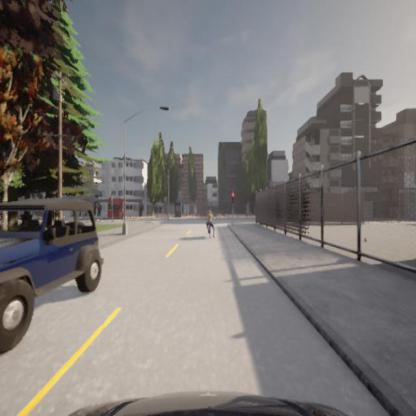bike: (205, 209, 215, 236)
traffic_light_red: (232, 192, 235, 200)
vehicle: (0, 187, 104, 356)
